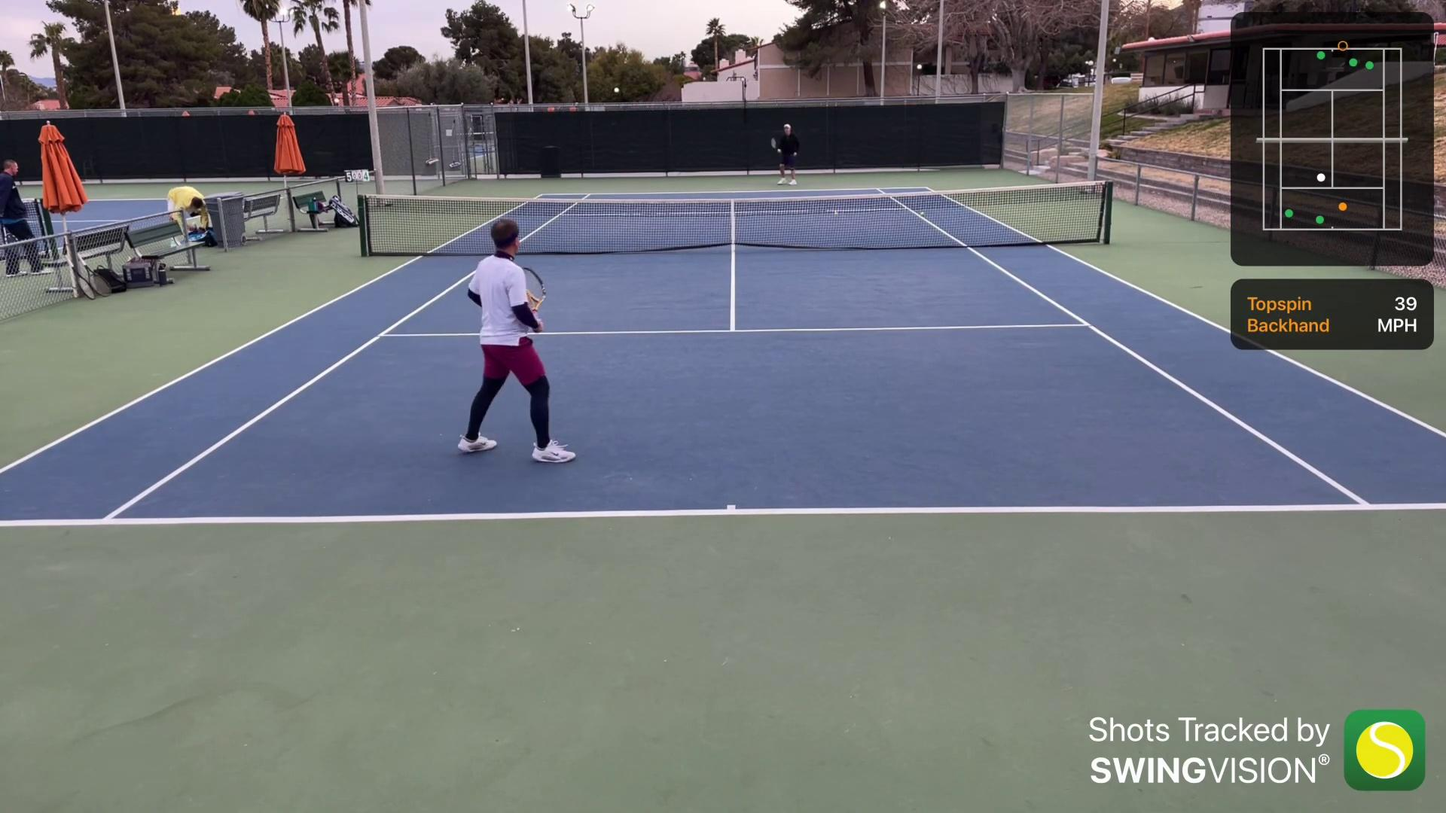ball: (918, 211, 925, 216)
